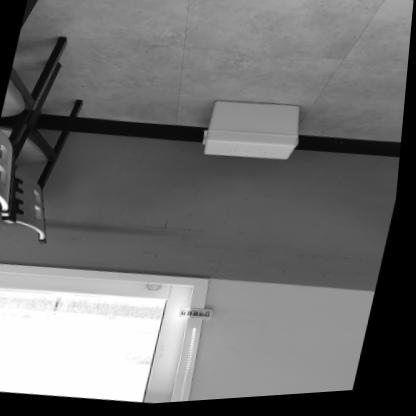DDL: (200, 96, 310, 171)
